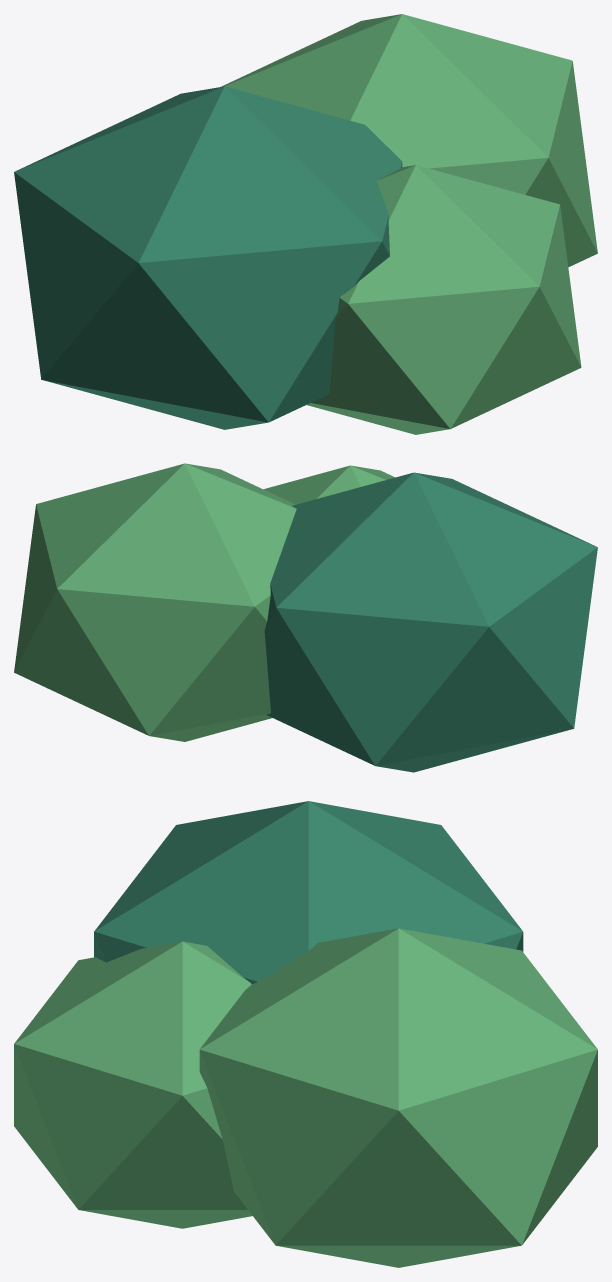
Rendered from shrub_cluster.glb.
The picture shows the model from 3 angles, top to bottom: view 1: azimuth 30°, elevation 25°; view 2: azimuth 150°, elevation 25°; view 3: azimuth 270°, elevation 25°; orthographic projection. The views are drawn at different scales.
Parts seen in each view (by area): view 1: Shrub, Shrub.002, Shrub.001; view 2: Shrub, Shrub.001, Shrub.002; view 3: Shrub.001, Shrub.002, Shrub.
Part boxes in pixels (x1,y1,x2,y2): Shrub: [14, 86, 402, 429]; Shrub.002: [307, 165, 581, 434]; Shrub.001: [221, 14, 597, 267]; Shrub: [264, 472, 597, 772]; Shrub.001: [14, 463, 296, 741]; Shrub.002: [263, 465, 395, 504]; Shrub.001: [199, 928, 597, 1267]; Shrub.002: [14, 941, 252, 1228]; Shrub: [94, 801, 523, 984].
Size of the model in its own units: 1.96 by 1.12 by 1.62.
